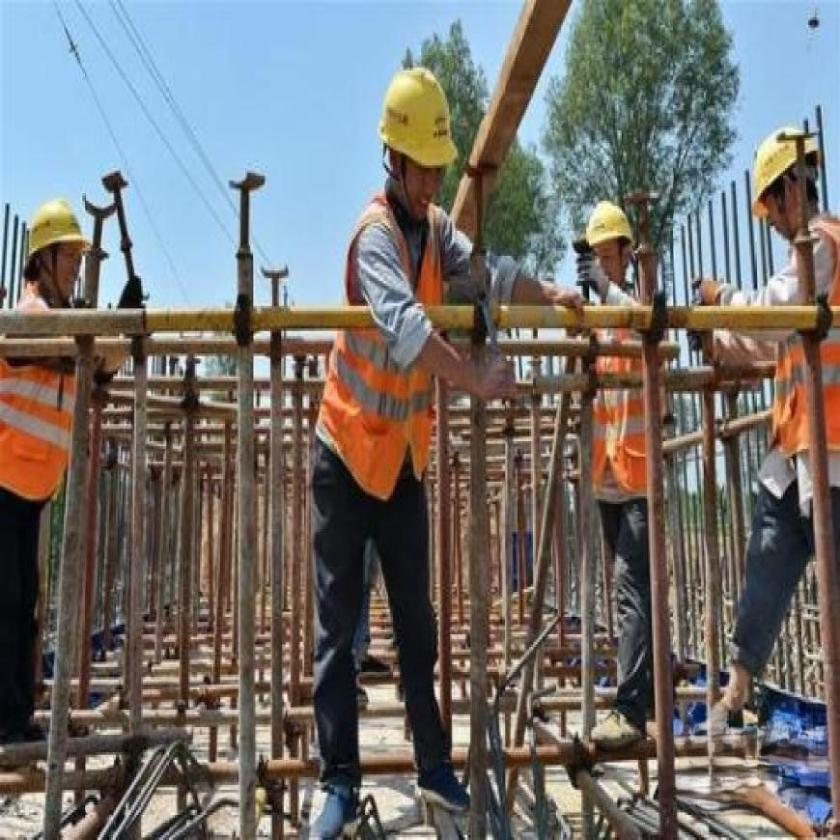Con_casco: (381, 67, 458, 221), (745, 128, 821, 249), (24, 191, 96, 314), (582, 200, 634, 292)
